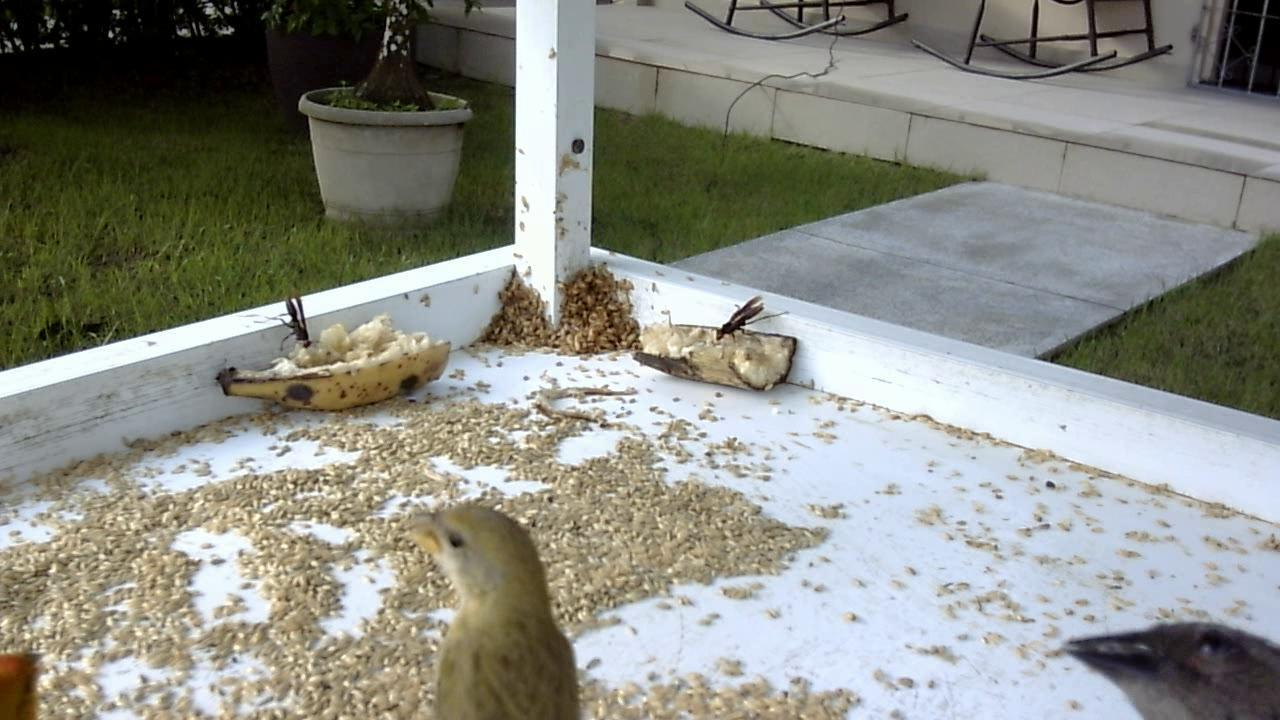canario_do_amazonas: (398, 501, 591, 712)
chupim: (1049, 613, 1275, 717)
